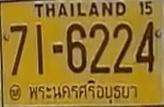1: (36, 24, 42, 74)
2: (89, 23, 109, 73), (113, 22, 132, 74)
4: (135, 20, 154, 72)
6: (66, 24, 86, 72)
7: (9, 24, 27, 74)
AYA: (26, 78, 141, 105)
